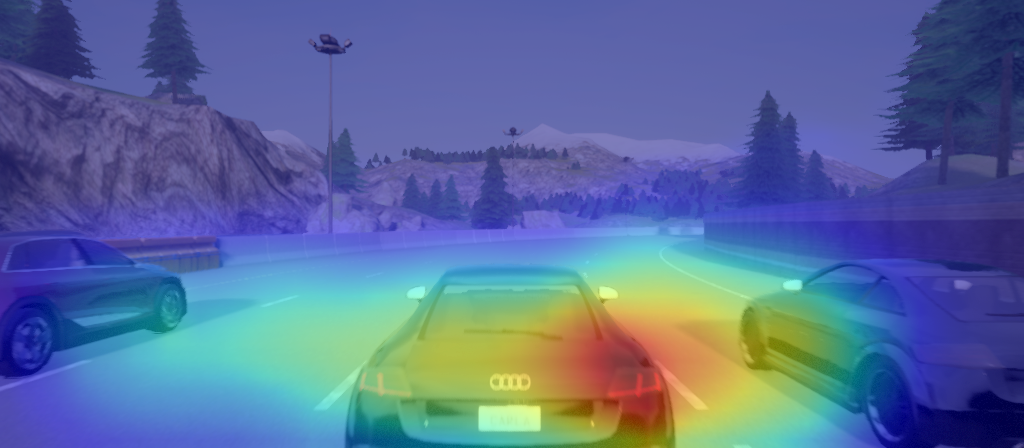barrier: (713, 205, 993, 253)
car: (341, 263, 681, 448), (733, 254, 1024, 448), (1, 223, 191, 384)
lane marker: (653, 354, 712, 419), (314, 355, 373, 416), (258, 292, 302, 309)
light pole: (303, 28, 359, 233)
